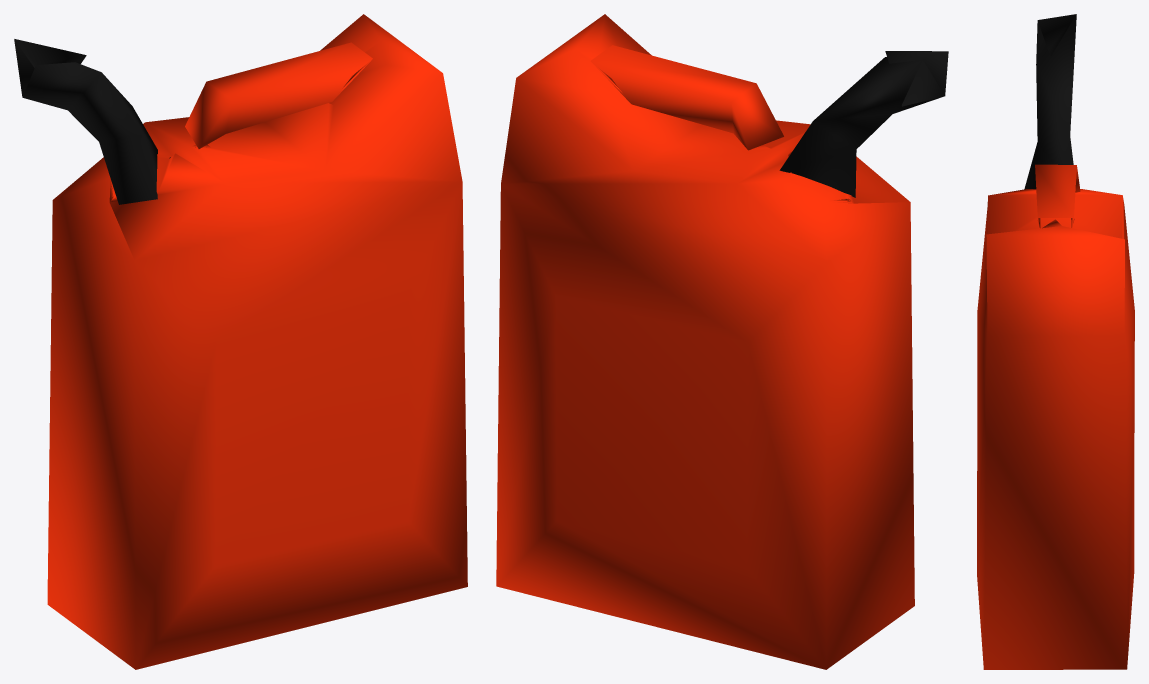
Rendered from Fuel.fbx.
The picture shows the model from 3 angles, left to right: view 1: azimuth 30°, elevation 25°; view 2: azimuth 150°, elevation 25°; view 3: azimuth 270°, elevation 25°; orthographic projection. The views are drawn at different scales.
Parts seen in each view (by area): view 1: Jerrycan.001; view 2: Jerrycan.001; view 3: Jerrycan.001.
Boxes of the visible parts, x1,y1,x2,y2 form: Jerrycan.001: [14, 14, 467, 669]; Jerrycan.001: [496, 14, 948, 669]; Jerrycan.001: [977, 14, 1134, 669].
Size of the model in its own units: 1.48 by 2.12 by 0.6088.
